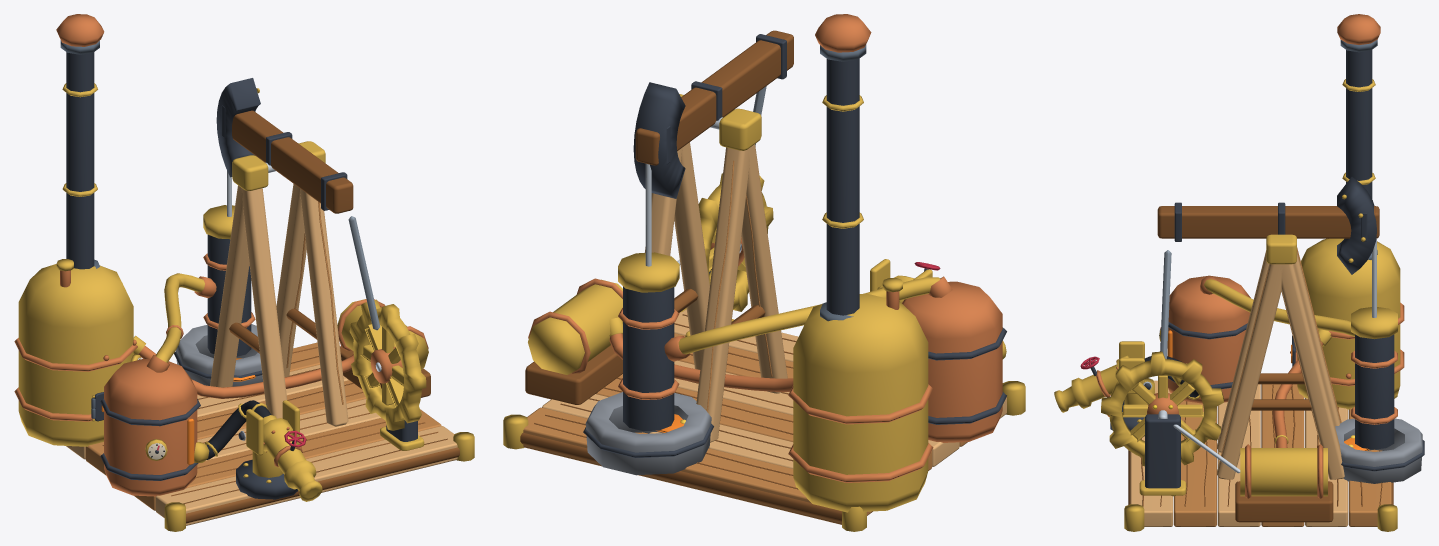
Rendered from LavaPump_T2.fbx.
3 views of the same model, side by side, from view 1: azimuth 30°, elevation 25°; view 2: azimuth 150°, elevation 25°; view 3: azimuth 270°, elevation 25° (orthographic). The views are drawn at different scales.
Visible parts, largest first — view 1: LavaPumpT2Posts, LavaPumpT2Deck, LavaPumpT2Boiler, LavaPumpT2Tank, LavaPumpT2Chimney, LavaPumpT2Beam, LavaPumpT2Flywheel, LavaPumpT2Well, LavaPumpT2Pipes, LavaPumpT2Turret, LavaPumpT2Nozzle, LavaPumpT2Crank (+2 smaller); view 2: LavaPumpT2Boiler, LavaPumpT2Deck, LavaPumpT2Posts, LavaPumpT2Well, LavaPumpT2Tank, LavaPumpT2Chimney, LavaPumpT2Beam, LavaPumpT2Engine, LavaPumpT2Pipes, LavaPumpT2Flywheel; view 3: LavaPumpT2Deck, LavaPumpT2Posts, LavaPumpT2Well, LavaPumpT2Beam, LavaPumpT2Boiler, LavaPumpT2Engine, LavaPumpT2Flywheel, LavaPumpT2Tank, LavaPumpT2Chimney, LavaPumpT2Crank, LavaPumpT2Pipes, LavaPumpT2Nozzle (+1 smaller).
Part boxes in pixels (x1,y1,x2,y2): LavaPumpT2Posts: (210,141,348,426); LavaPumpT2Deck: (66,342,474,531); LavaPumpT2Boiler: (14,259,141,446); LavaPumpT2Tank: (100,359,200,496); LavaPumpT2Chimney: (56,14,104,269); LavaPumpT2Beam: (216,78,353,216); LavaPumpT2Flywheel: (349,299,426,430); LavaPumpT2Well: (174,205,262,386); LavaPumpT2Pipes: (133,273,354,398); LavaPumpT2Turret: (236,400,299,499); LavaPumpT2Nozzle: (263,418,322,501); LavaPumpT2Crank: (348,216,424,450); LavaPumpT2Boiler: (788,278,933,512); LavaPumpT2Deck: (503,308,1025,531); LavaPumpT2Posts: (644,94,787,442); LavaPumpT2Well: (583,252,713,475); LavaPumpT2Tank: (902,281,1006,442); LavaPumpT2Chimney: (815,14,871,321); LavaPumpT2Beam: (633,30,793,266); LavaPumpT2Engine: (525,260,680,404); LavaPumpT2Pipes: (609,276,952,391); LavaPumpT2Flywheel: (698,173,773,311); LavaPumpT2Deck: (1124,380,1397,531); LavaPumpT2Posts: (1217,234,1344,479); LavaPumpT2Well: (1335,307,1424,483); LavaPumpT2Beam: (1157,177,1379,317); LavaPumpT2Boiler: (1290,238,1404,409); LavaPumpT2Engine: (1173,424,1333,522); LavaPumpT2Flywheel: (1101,351,1223,466); LavaPumpT2Tank: (1159,275,1250,403); LavaPumpT2Chimney: (1337,14,1380,259); LavaPumpT2Crank: (1139,250,1186,496); LavaPumpT2Pipes: (1200,276,1354,447); LavaPumpT2Nozzle: (1054,355,1129,412).
Bounding box in the file's own units: 244 × 275 × 237.
